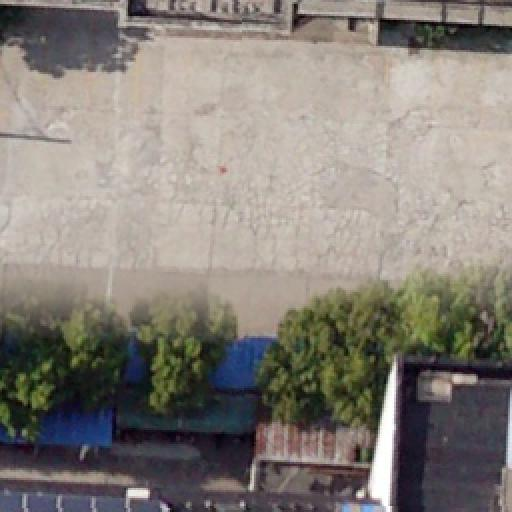solar-panel: (0, 492, 160, 512)
